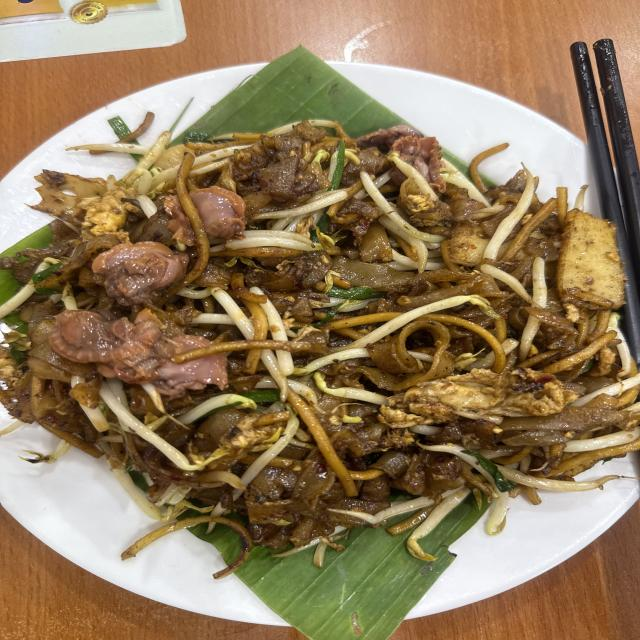Char Kway Teow: (40, 96, 603, 561)
